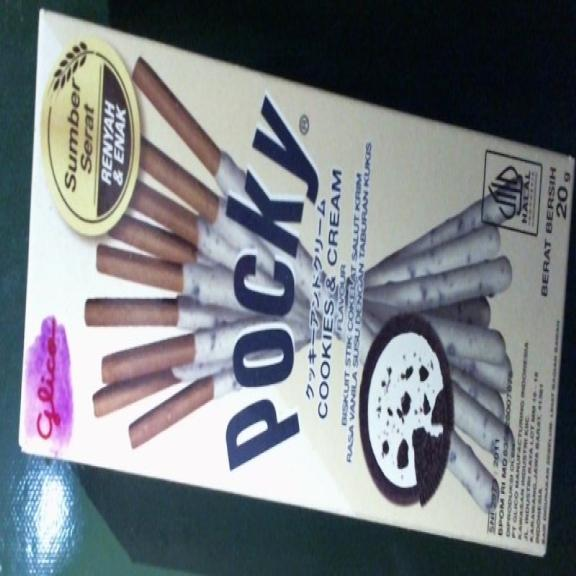Kertas: (17, 2, 576, 557)
